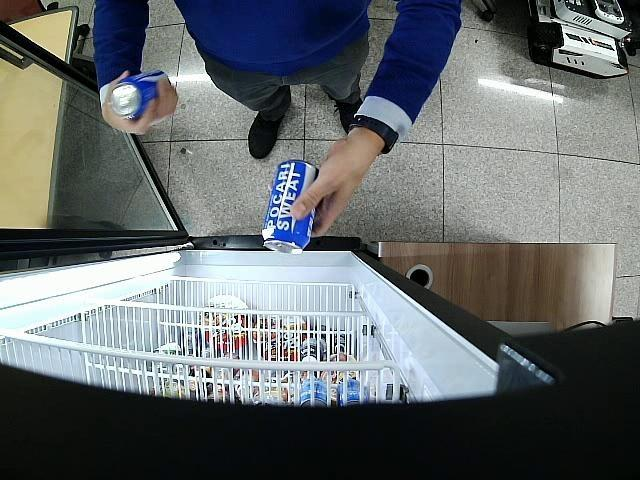13_pocariSweat: (262, 160, 318, 253), (109, 70, 171, 120)
